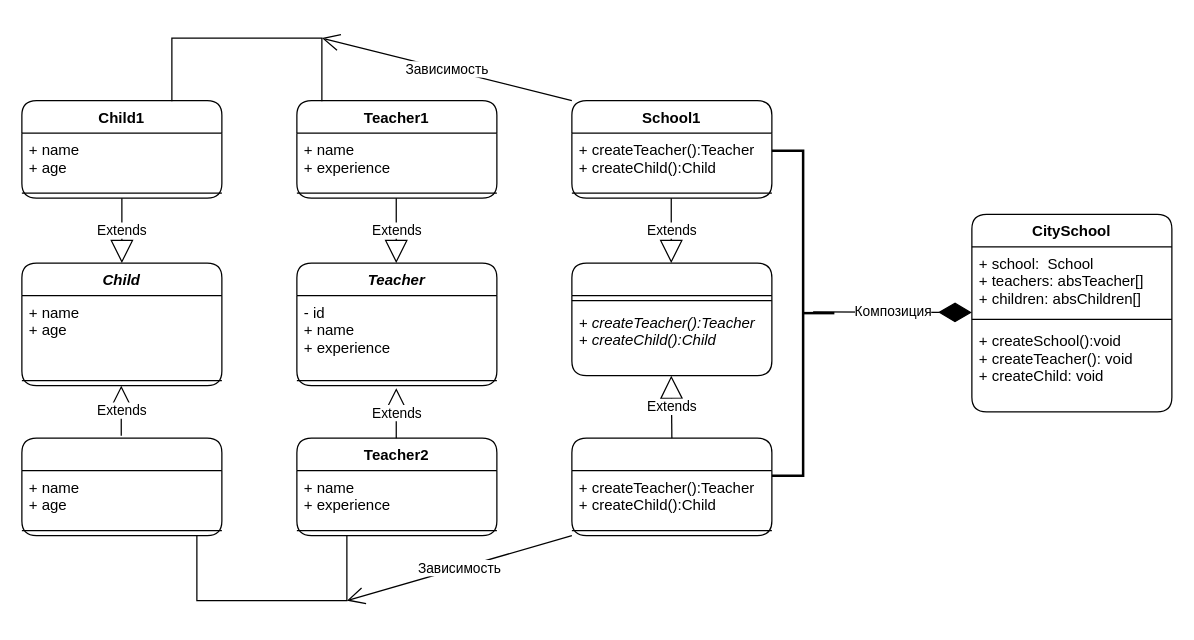
The diagram is 1194 pixels wide and 640 high, and some of its shapes have lost their labels. The shapes that lost their labels are listed below. From the top down, each one's box as (x1, y1, x2, y2) in pixels, then its label:
(571, 262, 772, 376): School
(21, 437, 222, 536): Child2
(571, 437, 772, 536): School2
